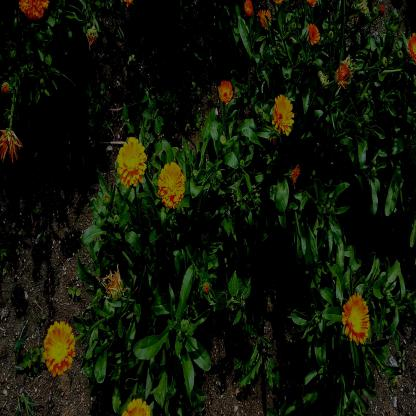marigold: (43, 321, 74, 373), (342, 290, 370, 344), (118, 138, 146, 184), (160, 163, 184, 205), (272, 96, 293, 136), (218, 79, 233, 100), (308, 20, 320, 44), (259, 11, 271, 26)
